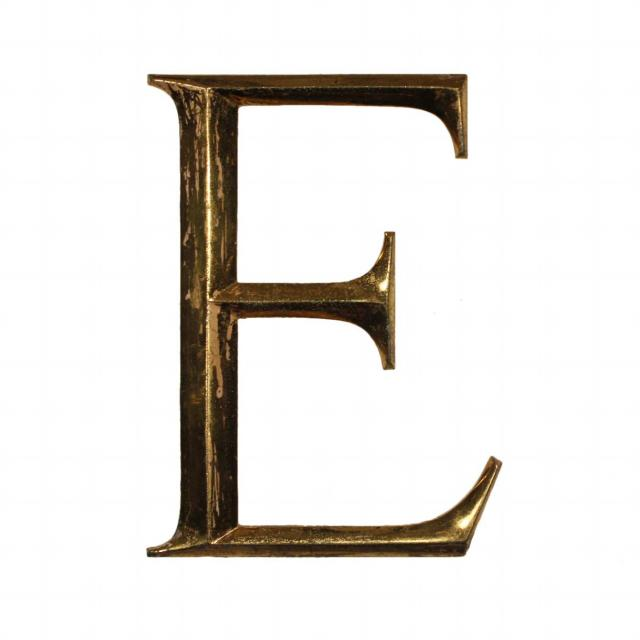E: (93, 19, 560, 593)
